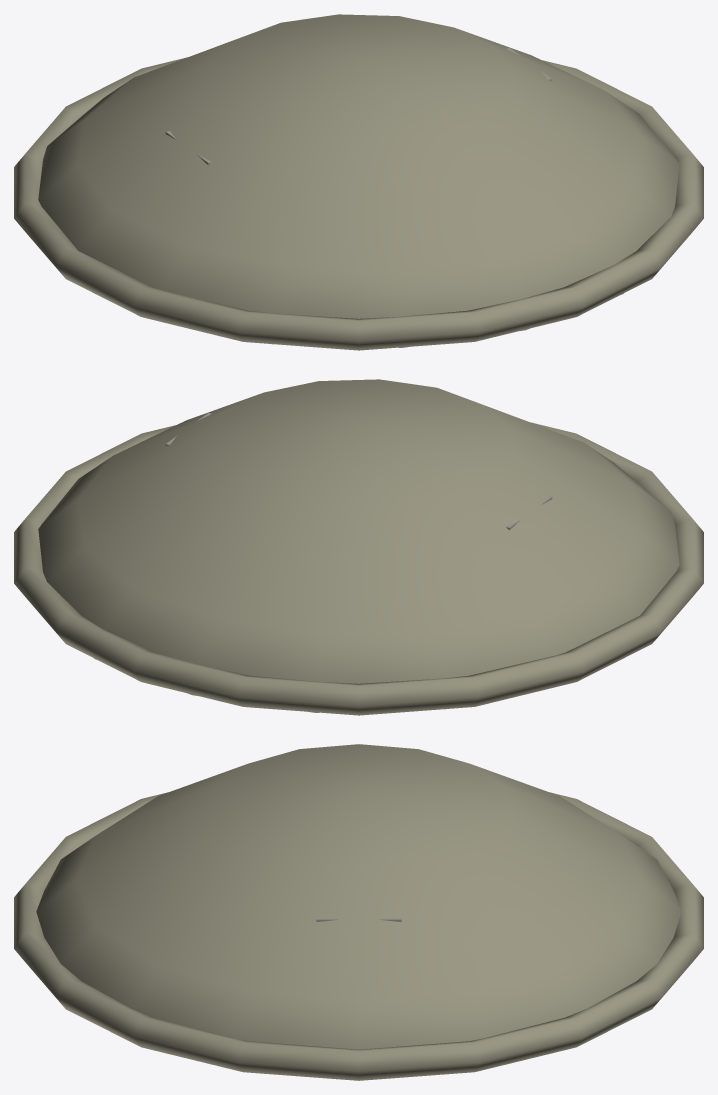
File: trench-line-1917-helmet-e8d8e96f__24103.glb
3 renders of one model, top to bottom at view 1: azimuth 30°, elevation 25°; view 2: azimuth 150°, elevation 25°; view 3: azimuth 270°, elevation 25°, orthographic.
Parts seen in each view (by area): view 1: helmet; view 2: helmet; view 3: helmet.
Boxes of the visible parts, <box> form: helmet: <box>14,14,703,350</box>; helmet: <box>14,379,703,715</box>; helmet: <box>14,744,703,1080</box>.
Size of the model in its own units: 0.494 by 0.115 by 0.4865.
